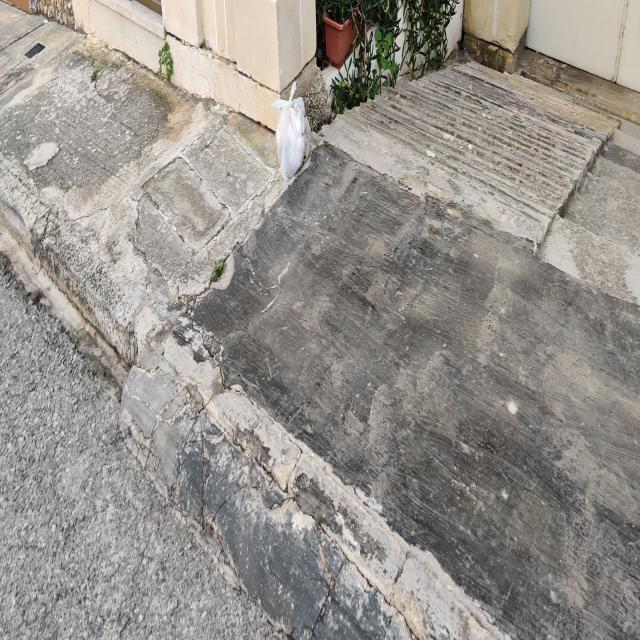Recyclable Material -Grey Bags-: (275, 95, 314, 182)
